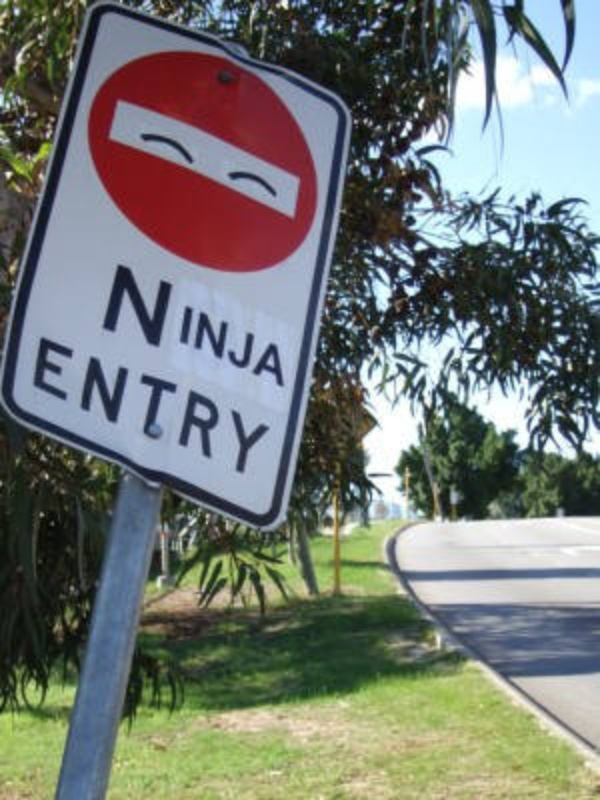text: (257, 333, 273, 481), (49, 333, 64, 481), (65, 333, 80, 481), (81, 333, 96, 481), (97, 333, 112, 481), (113, 333, 128, 481), (129, 333, 144, 481), (145, 333, 160, 481), (161, 333, 176, 481), (177, 333, 192, 481), (193, 333, 208, 481), (209, 333, 224, 481), (225, 333, 240, 481), (241, 333, 256, 481), (129, 257, 144, 389), (145, 257, 160, 389), (161, 257, 176, 389), (177, 257, 192, 389), (193, 257, 208, 389), (209, 257, 224, 389), (225, 257, 240, 389), (241, 257, 256, 389), (257, 257, 272, 389), (115, 257, 128, 389), (273, 257, 285, 389), (39, 333, 48, 481)
